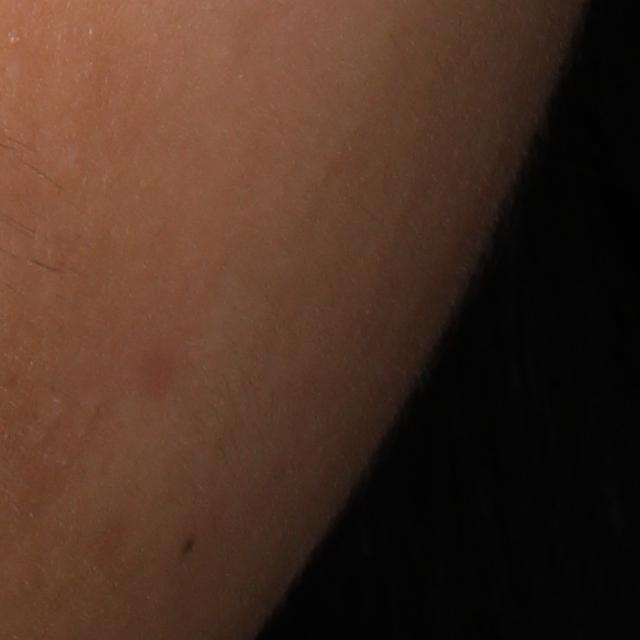nevus: (177, 531, 198, 559)
